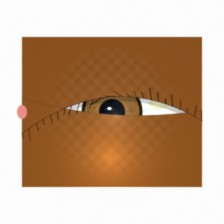pinguecula_lesion: (138, 86, 182, 121)
